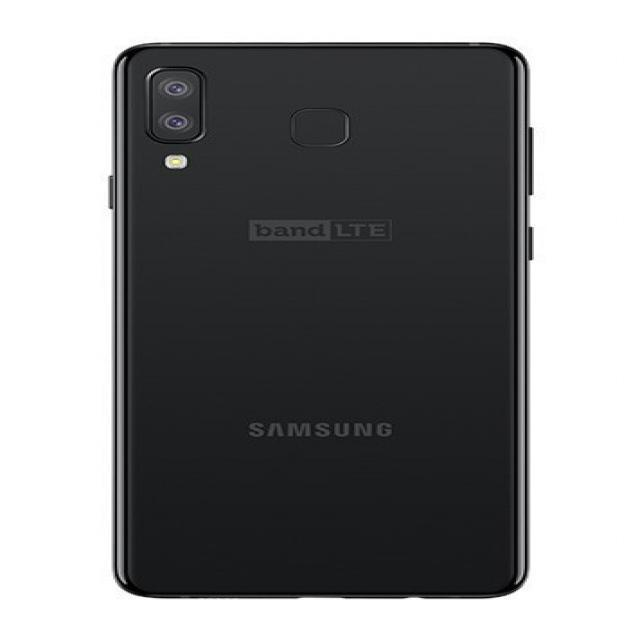phone: (102, 39, 536, 604)
